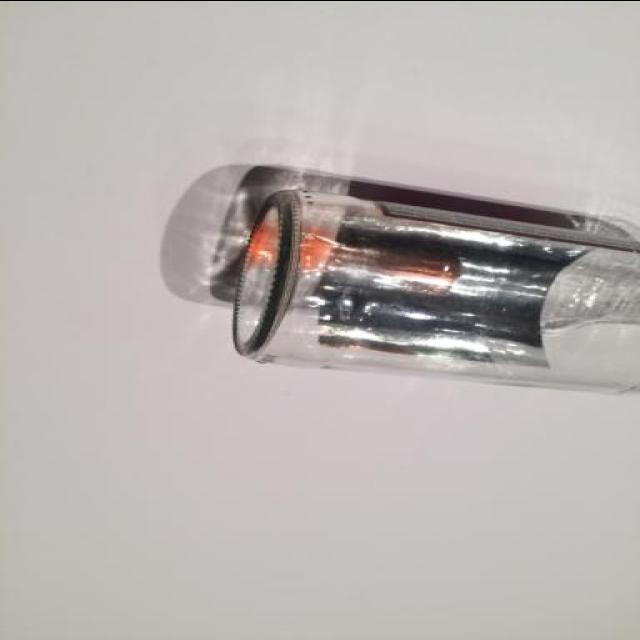glass: (204, 158, 640, 400)
